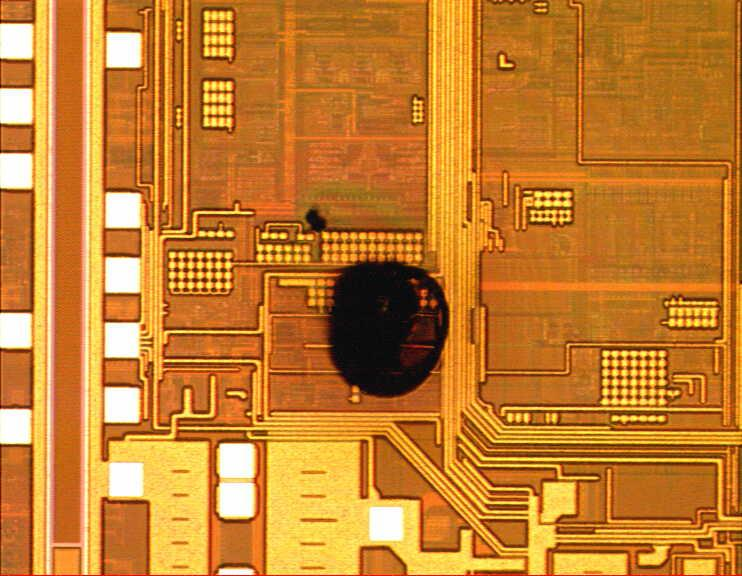PIQ PARTICLE: (301, 205, 458, 407)
